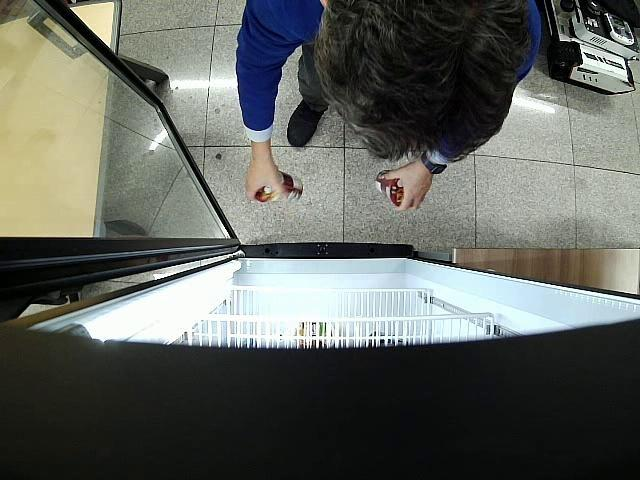06_nuguri_S: (254, 171, 304, 203), (376, 170, 404, 206)
